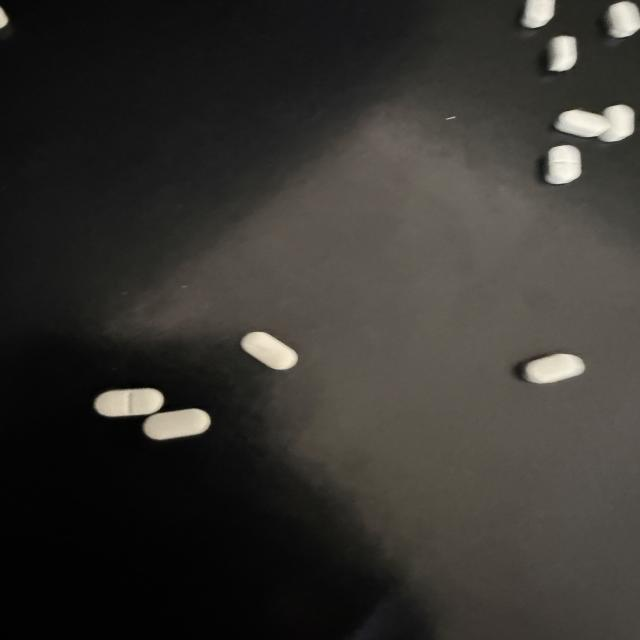pill: (143, 409, 210, 440), (241, 332, 297, 369), (94, 389, 164, 416), (522, 354, 584, 383), (555, 110, 610, 137), (545, 145, 581, 184), (599, 105, 635, 142), (605, 2, 639, 37), (548, 36, 577, 72), (521, 0, 555, 28), (0, 7, 9, 28)
